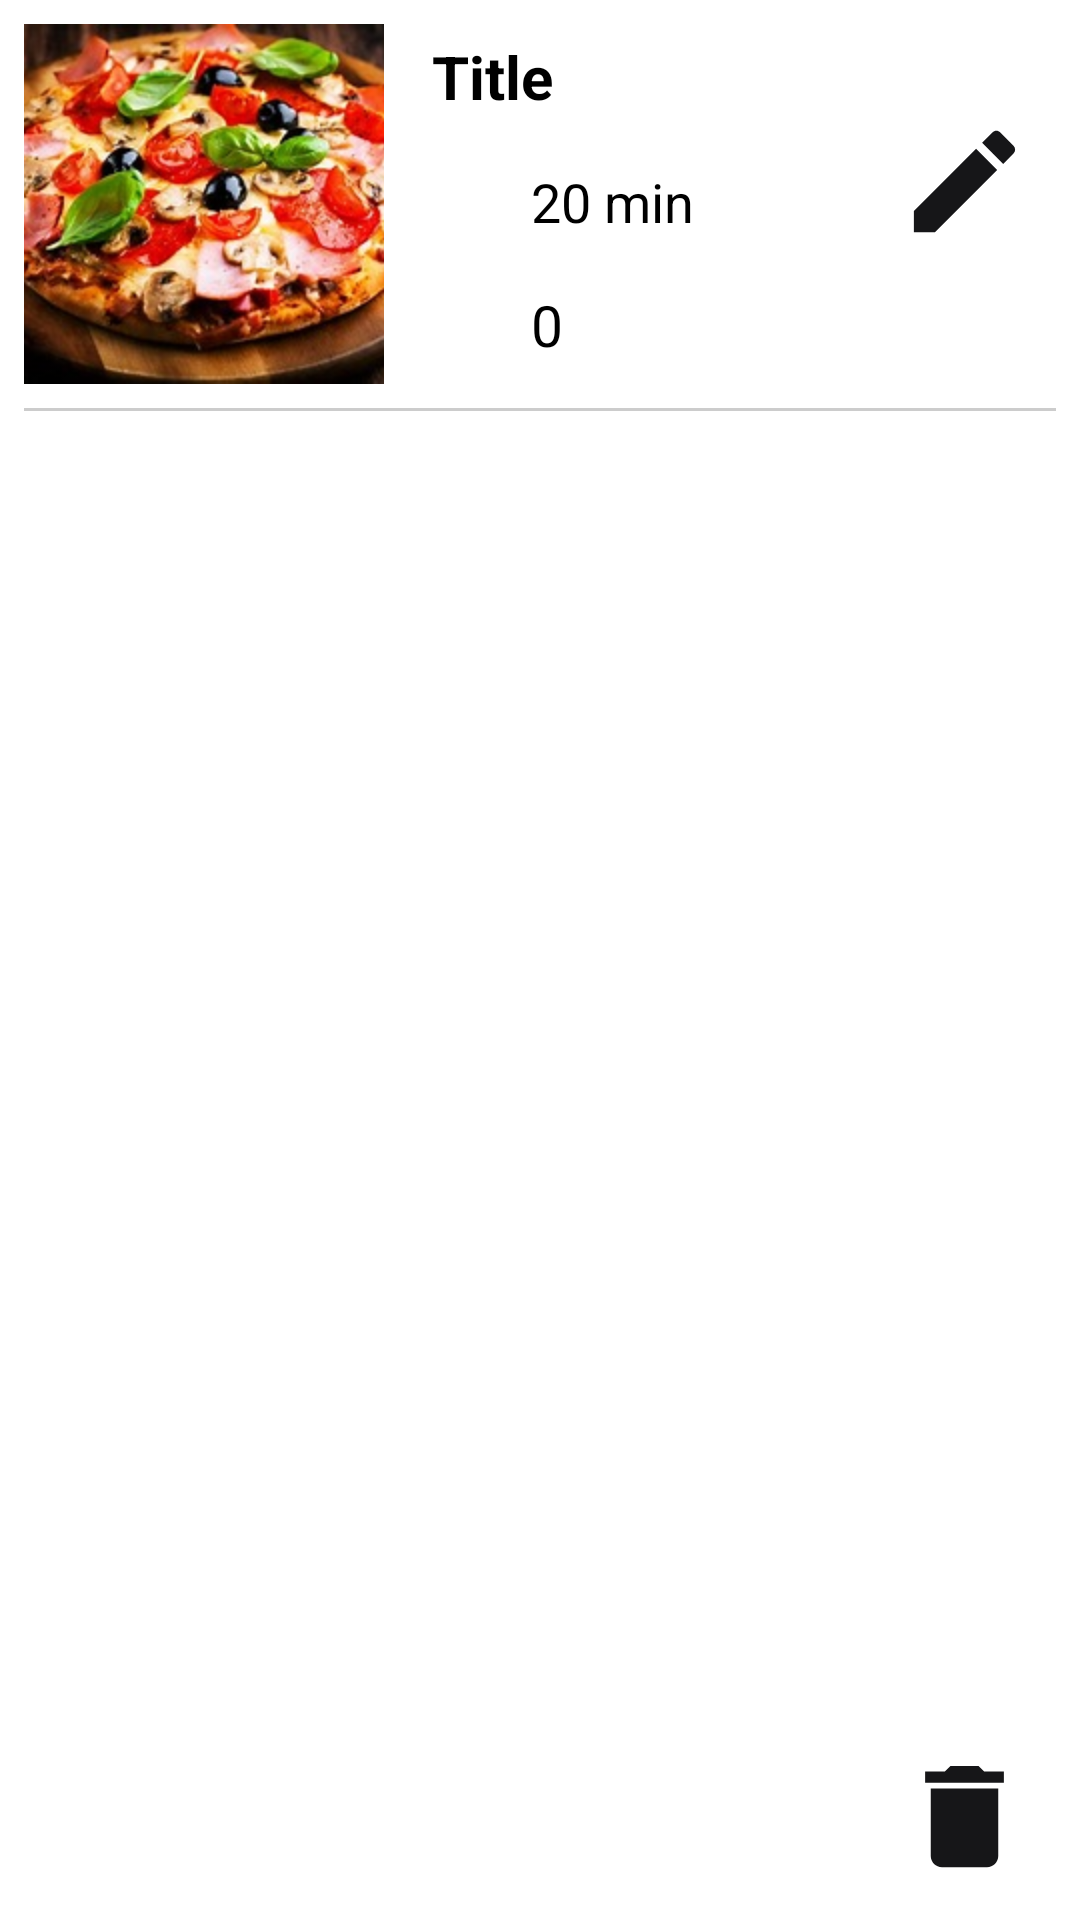

Icons on this 1080px×1920px Android screen, each with the point to tap as point (x, y):
delete: point (964, 1817)
edit: point (964, 181)
pizza: point (204, 204)
